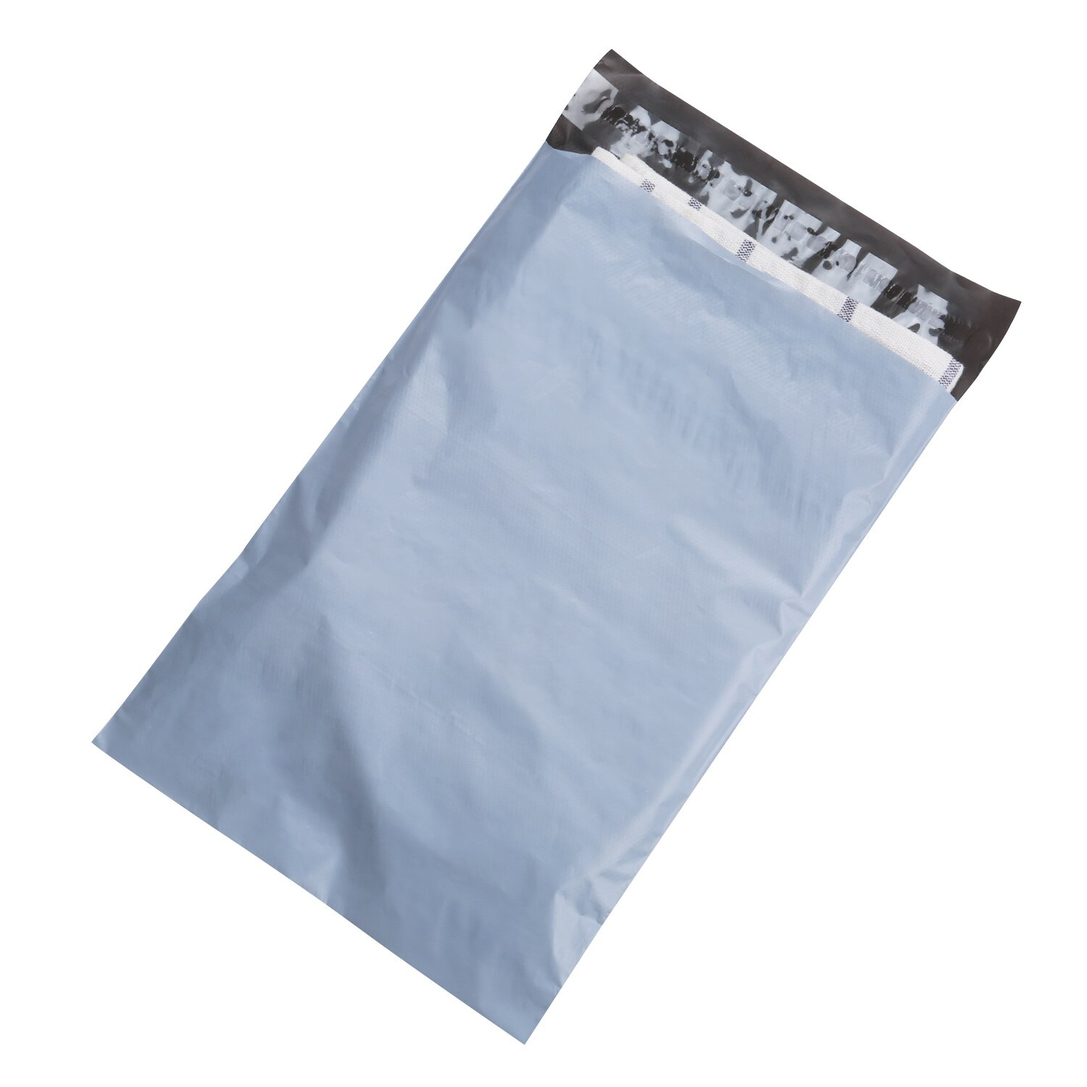Parcel: (93, 51, 1019, 1043)
